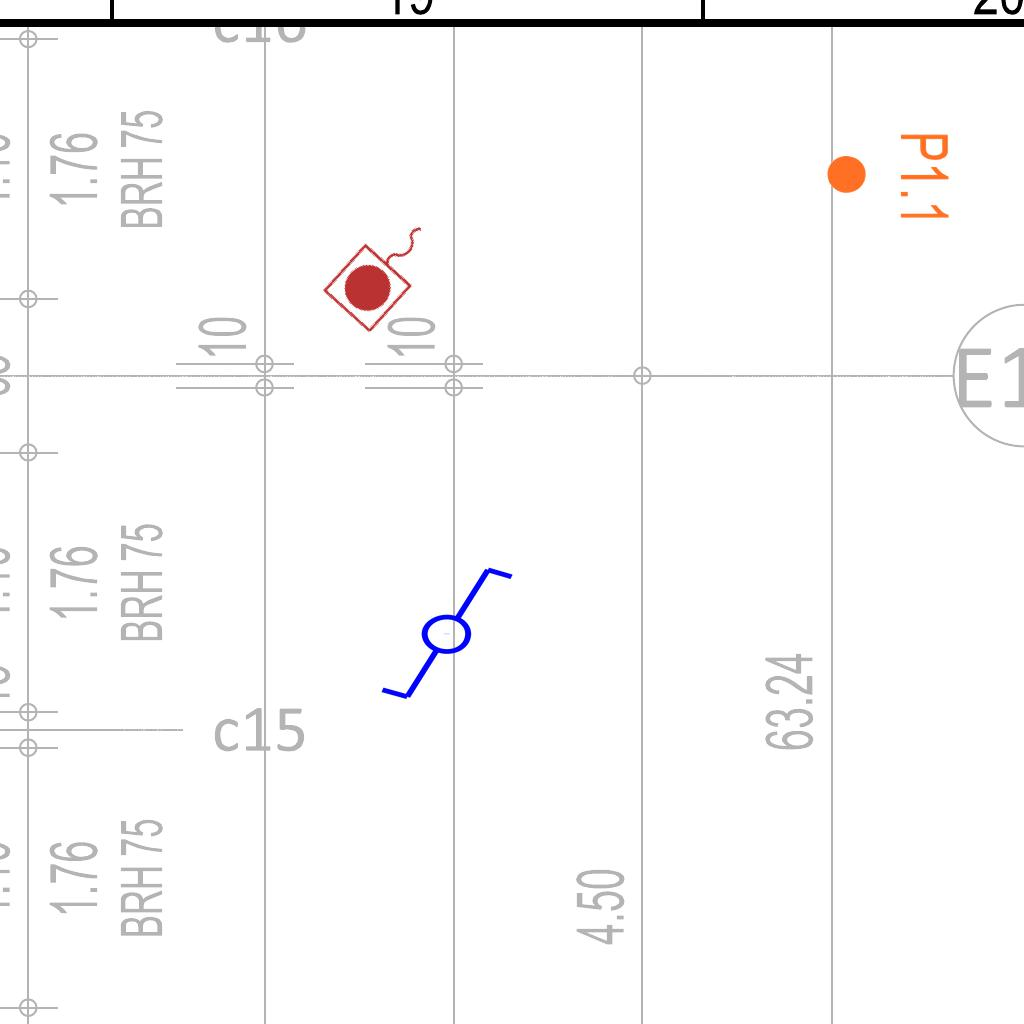Downlight_LED_Einbauleuchten_Flur: (824, 131, 952, 224)
Wechselschalter: (360, 560, 517, 704)
Zugtaster: (317, 200, 453, 340)
